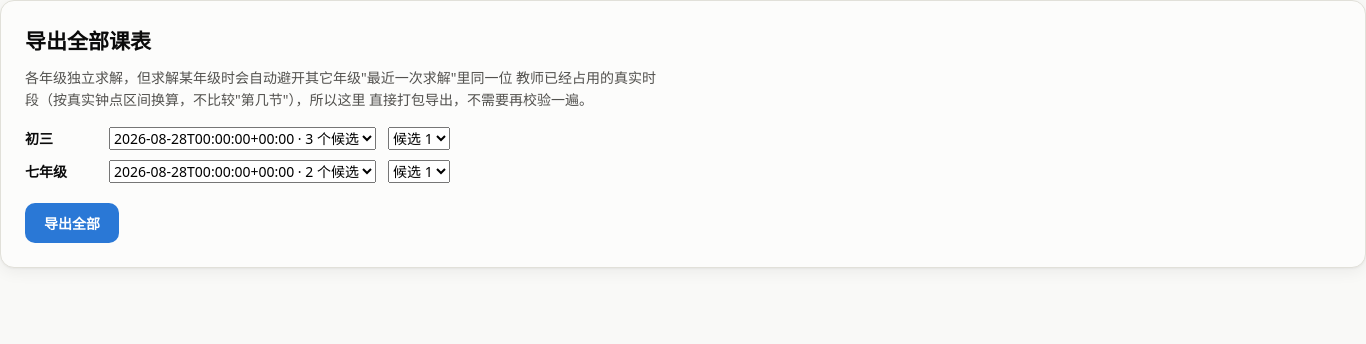
Test: ExportAllSettings › shows the backend error message when export fails
What coordinates should you click on to do the following:
click the button with test id "export-button"
I would click on:
 (72, 223)
Its box is [25,203,119,243].
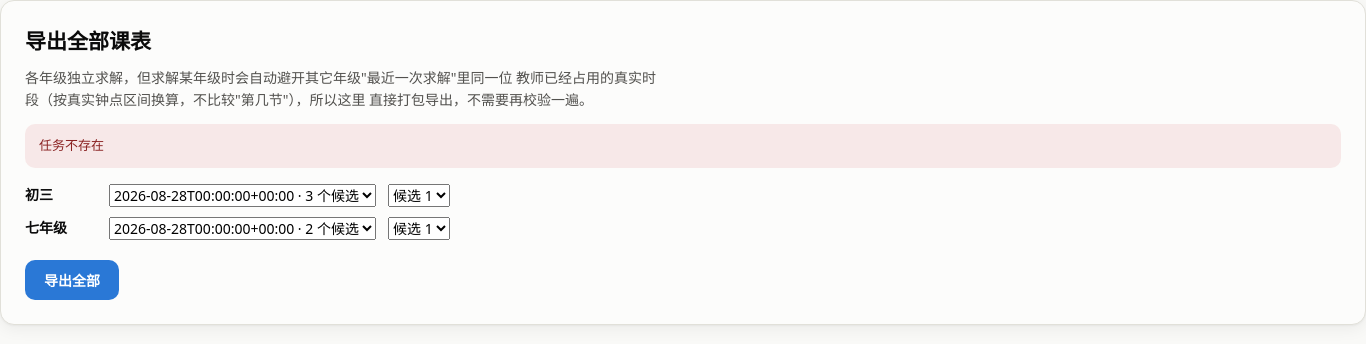
Expected: the text with test id "error" reads "任务不存在", [39,136,104,154]
